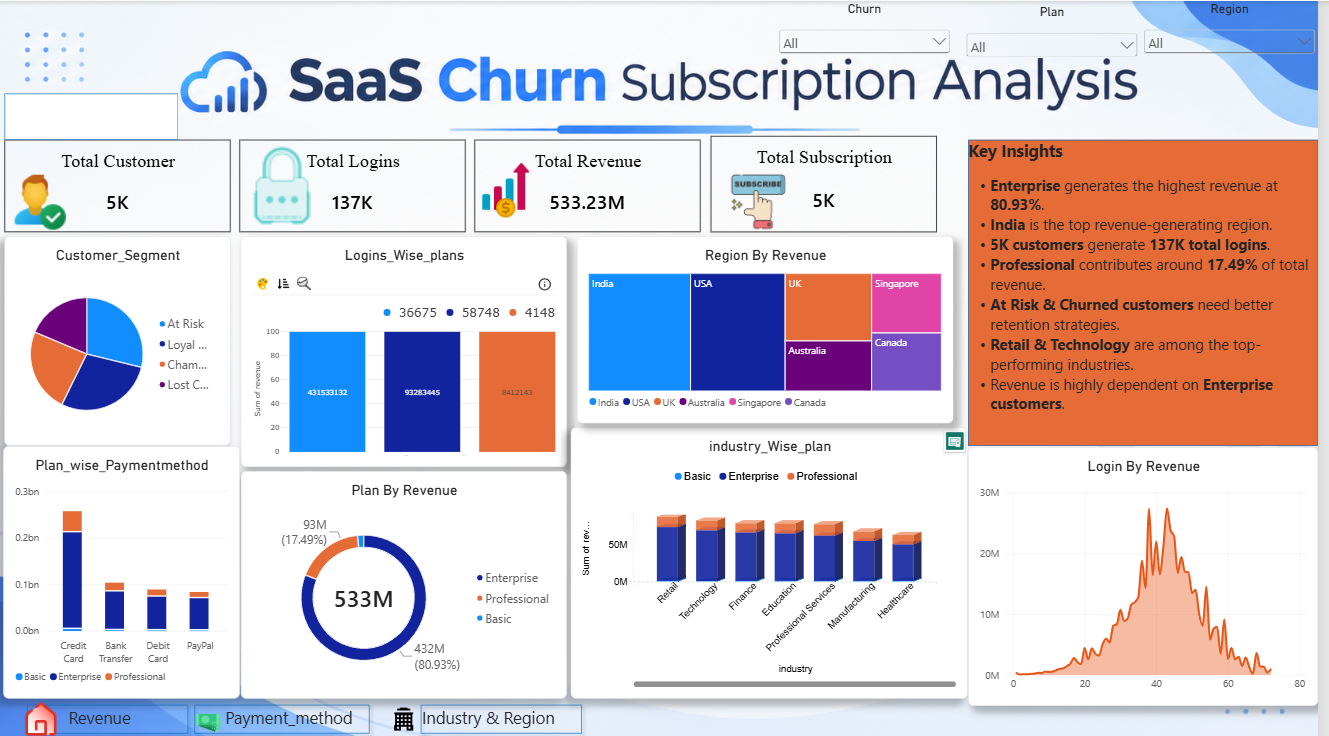

Layout of this report page (visuals, bound fields, positions):
{"tool":"powerbi","page":{"name":"Page 4","canvas":[1920,1080],"ordinal":3},"visuals":[{"type":"cardVisual","title":"Total Customer","fields":{"Data":["saas customers_clean.total_customer"]},"box":[18.1,200.9,327.3,158.5],"z":0},{"type":"cardVisual","title":"Total Revenue","fields":{"Data":["saas subscription_clean.total_rev"]},"box":[698.5,200.9,327.5,159.3],"z":1000},{"type":"cardVisual","title":"Total Subscription","fields":{"Data":["saas subscription_clean.total sub"]},"box":[1040.6,200.9,327.5,159.3],"z":2000},{"type":"cardVisual","title":"Total Logins","fields":{"Data":["saas usage_clean.Total_login"]},"box":[358.3,200.9,327.5,159.3],"z":3000},{"type":"pieChart","title":"Customer_Segment","fields":{"Category":["saas rfm_customer.Customer Segment"],"Y":["CountNonNull(saas customers_clean.industry)"]},"box":[18.1,394.5,327.5,304],"z":4000},{"type":"stackcolumnlabelvalue6EB582BBADBBD9847D2A59E6558A8AB9","title":"Logins_Wise_plans","fields":{"col_3":["saas subscription_clean.plan"],"col_6":["Sum(saas subscription_clean.revenue)"],"col_5":["Sum(saas usage_clean.monthly_logins)"]},"box":[374.6,394.5,472.3,334.8],"z":5000},{"type":"barChartnew3D9F6B456A3E4B4A1B8D8F2D3A4B5C6D7E","title":" industry_Wise_plan","fields":{"category":["saas customers_clean.industry"],"measure":["Sum(saas subscription_clean.revenue)"],"legend":["saas subscription_clean.plan"]},"box":[872.3,655.1,575.5,421.7],"z":6000},{"type":"donutChart","title":"Plan_wise_Revenue","fields":{"Category":["saas subscription_clean.plan"],"Y":["Sum(saas subscription_clean.revenue)"]},"box":[374.6,747.4,472.3,329.4],"z":7000},{"type":"lineStackedColumnComboChart","title":"Plan_wise_Paymentmethod","fields":{"Category":["saas subscription_clean.payment_method"],"Series":["saas subscription_clean.plan"],"Y":["Sum(saas subscription_clean.revenue)"]},"box":[18.1,711.2,342,365.6],"z":8000},{"type":"stackedAreaChart","title":"Login_Wise_Revenue","fields":{"Category":["saas usage_clean.monthly_logins"],"Y":["Sum(saas subscription_clean.revenue)"]},"box":[1464,655.1,456,421.7],"z":9000},{"type":"treemap","title":"Region_Wise_Revenue ","fields":{"Group":["saas customers_clean.region"],"Values":["Sum(saas subscription_clean.revenue)"]},"box":[846.9,372.8,544.7,271.4],"z":10000},{"type":"shape","box":[1413.3,200.9,506.7,443.4],"z":11000},{"type":"textbox","box":[1413.3,200.9,506.7,443.4],"z":12000},{"type":"slicer","title":"Churn","fields":{"Values":["saas chur_clean.churn"]},"box":[1134.7,0,257,79.6],"z":13000},{"type":"slicer","title":"Plan","fields":{"Values":["saas customers_clean.plan"]},"box":[1406.1,5.4,257,74.2],"z":14000},{"type":"slicer","title":"Region","fields":{"Values":["saas customers_clean.region"]},"box":[1663.1,0,257,92.3],"z":15000},{"type":"image","box":[358.3,213.5,123.1,146.6],"z":16000},{"type":"image","box":[18.1,213.5,88.7,146.6],"z":17000},{"type":"image","box":[698.5,213.5,90.5,146.6],"z":18000},{"type":"image","box":[1040.6,246.1,137.5,114],"z":19000},{"type":"shape","box":[18.1,67,251.5,67],"z":20000},{"type":"shape","box":[18.1,133.9,251.5,67],"z":21000},{"type":"textbox","box":[18.1,0,222.6,67],"z":22000},{"type":"textbox","box":[18.1,67,251.5,67],"z":23000},{"type":"textbox","box":[18.1,133.9,251.5,67],"z":24000},{"type":"shape","box":[18.1,0,251.5,67],"z":25000},{"type":"shape","box":[18.1,67,251.5,67],"z":25001},{"type":"shape","box":[18.1,133.9,251.5,67],"z":25002},{"type":"image","box":[0,0,90.5,67],"z":25003},{"type":"image","box":[18.1,92.3,45.2,41.6],"z":25004},{"type":"image","box":[18.1,159.3,45.2,41.6],"z":25005}]}

Visuals, with their boxes on the page's 1920x1080 design canvas (x1, y1, x2, y2). These are canvas units, not pixel positions in the 1329x736 screenshot, which may show the page scaled, cropped or inside an application window:
"Total Customer" cardVisual: <box>18,201,345,359</box>
"Total Revenue" cardVisual: <box>698,201,1026,360</box>
"Total Subscription" cardVisual: <box>1041,201,1368,360</box>
"Total Logins" cardVisual: <box>358,201,686,360</box>
"Customer_Segment" pieChart: <box>18,394,346,698</box>
"Logins_Wise_plans" stackcolumnlabelvalue6EB582BBADBBD9847D2A59E6558A8AB9: <box>375,394,847,729</box>
" industry_Wise_plan" barChartnew3D9F6B456A3E4B4A1B8D8F2D3A4B5C6D7E: <box>872,655,1448,1077</box>
"Plan_wise_Revenue" donutChart: <box>375,747,847,1077</box>
"Plan_wise_Paymentmethod" lineStackedColumnComboChart: <box>18,711,360,1077</box>
"Login_Wise_Revenue" stackedAreaChart: <box>1464,655,1920,1077</box>
"Region_Wise_Revenue " treemap: <box>847,373,1392,644</box>
shape: <box>1413,201,1920,644</box>
textbox: <box>1413,201,1920,644</box>
"Churn" slicer: <box>1135,0,1392,80</box>
"Plan" slicer: <box>1406,5,1663,80</box>
"Region" slicer: <box>1663,0,1920,92</box>
image: <box>358,214,481,360</box>
image: <box>18,214,107,360</box>
image: <box>698,214,789,360</box>
image: <box>1041,246,1178,360</box>
shape: <box>18,67,270,134</box>
shape: <box>18,134,270,201</box>
textbox: <box>18,0,241,67</box>
textbox: <box>18,67,270,134</box>
textbox: <box>18,134,270,201</box>
shape: <box>18,0,270,67</box>
shape: <box>18,67,270,134</box>
shape: <box>18,134,270,201</box>
image: <box>0,0,90,67</box>
image: <box>18,92,63,134</box>
image: <box>18,159,63,201</box>
